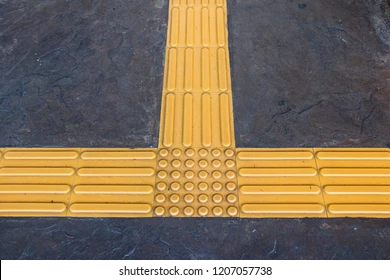piso_tatil: (1, 1, 390, 222)
piso_tatil_alerta: (149, 145, 240, 218)
piso_tatil_direcional: (236, 148, 330, 218), (66, 147, 158, 217), (1, 147, 83, 217), (311, 148, 390, 219), (157, 93, 236, 147), (161, 47, 233, 93), (164, 6, 230, 47)
piso_tatil_direcional_horizontal: (66, 147, 157, 217), (239, 148, 330, 218), (311, 147, 390, 220), (1, 147, 83, 217)
piso_tatil_direcional_vertical: (157, 92, 236, 147), (162, 48, 234, 92), (165, 6, 231, 47)
